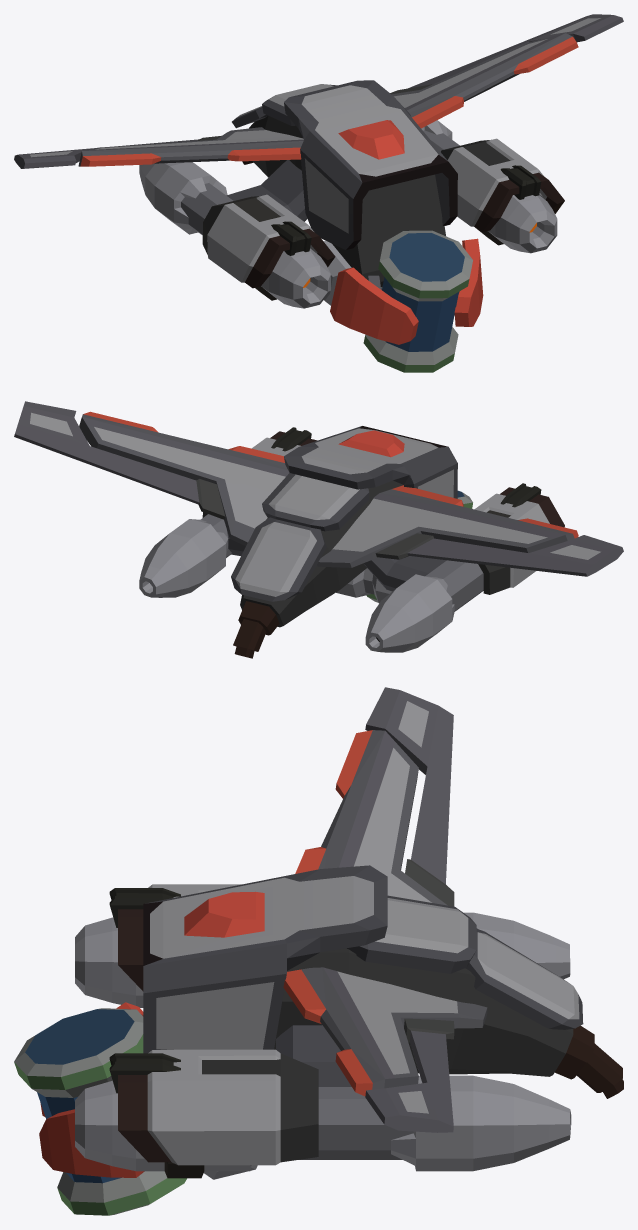
File: SM_Veh_Drone_Spawner.fbx
The picture shows the model from 3 angles, top to bottom: view 1: azimuth 30°, elevation 25°; view 2: azimuth 150°, elevation 25°; view 3: azimuth 270°, elevation 25°; orthographic projection. The views are drawn at different scales.
Visible parts, largest first — view 1: SM_Veh_Drone_Spawner, SpawnContainer; view 2: SM_Veh_Drone_Spawner; view 3: SM_Veh_Drone_Spawner, SpawnContainer.
Boxes of the visible parts, x1,y1,x2,y2 form: SM_Veh_Drone_Spawner: (14, 14, 623, 344); SpawnContainer: (363, 230, 472, 372); SM_Veh_Drone_Spawner: (14, 401, 623, 658); SM_Veh_Drone_Spawner: (39, 687, 623, 1179); SpawnContainer: (14, 1008, 186, 1215).
Size of the model in its own units: 4.33 by 1.42 by 2.58.
Materials: 2 (2 with a texture image).
